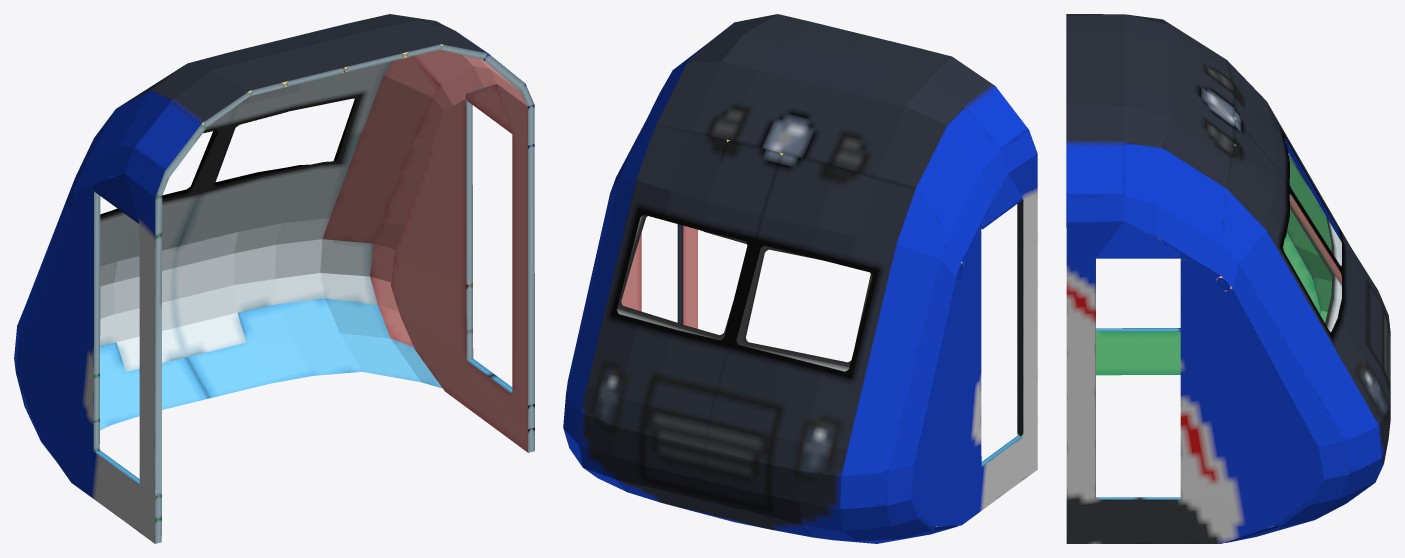
Rendered from df11g_front.obj.
3 views of the same model, side by side, from view 1: azimuth 30°, elevation 25°; view 2: azimuth 150°, elevation 25°; view 3: azimuth 270°, elevation 25° (orthographic). The views are drawn at different scales.
Parts seen in each view (by area): view 1: DF11GsideR; view 2: DF11GsideR; view 3: DF11GsideR.
Boxes of the visible parts, x1,y1,x2,y2 form: DF11GsideR: [14, 14, 534, 543]; DF11GsideR: [563, 14, 1037, 543]; DF11GsideR: [1066, 14, 1390, 543].
Size of the model in its own units: 3.16 by 3.42 by 2.52.
